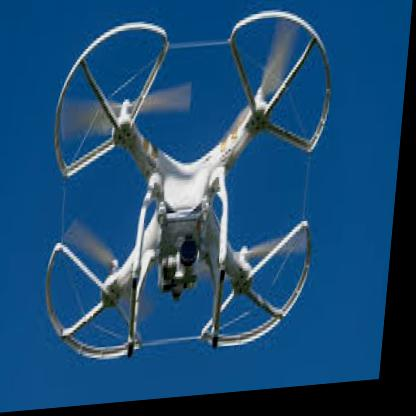UAS: (40, 10, 340, 367)
